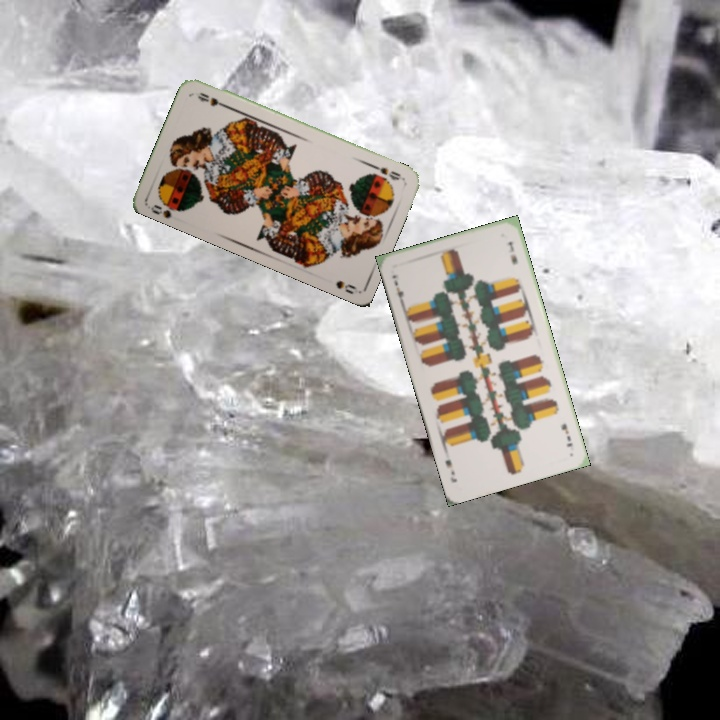E7: (388, 270, 407, 307), (557, 420, 575, 450)
SO: (146, 195, 187, 221), (367, 160, 406, 183)
